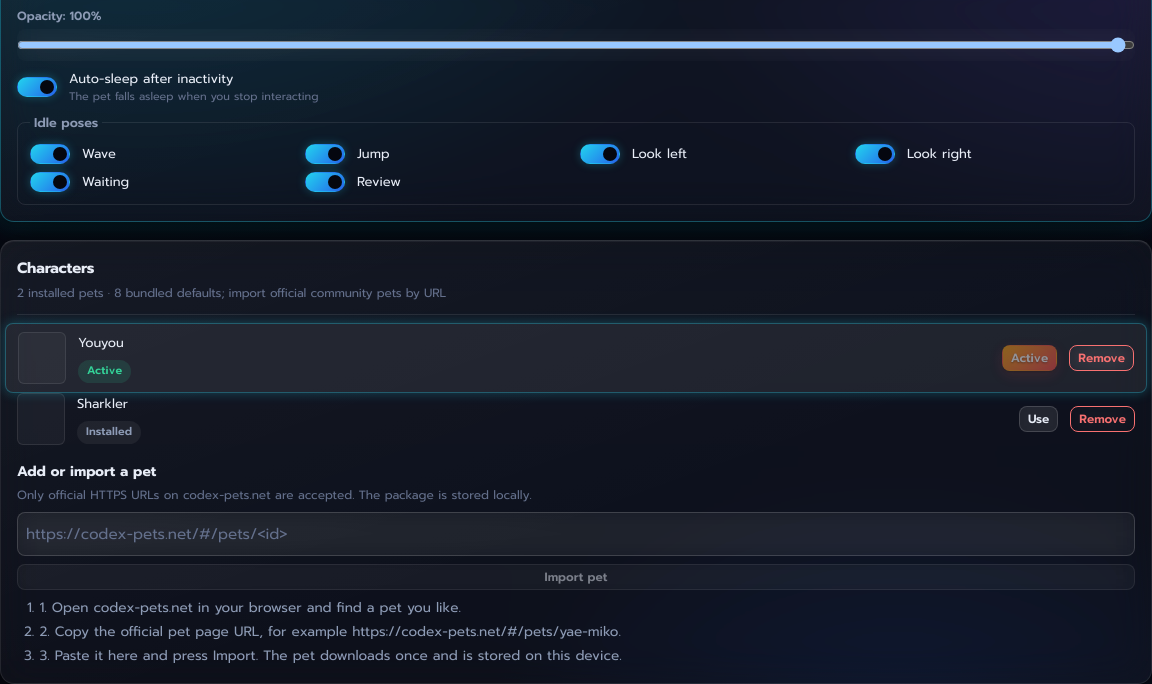
Test case: PetPage › reports a refused import instead of hiding the failure
(page scrolled)
In the field named "Official Codex Pets URL": (576, 534) [17,512,1135,556], type "https://evil.example/pets/bad-pet"
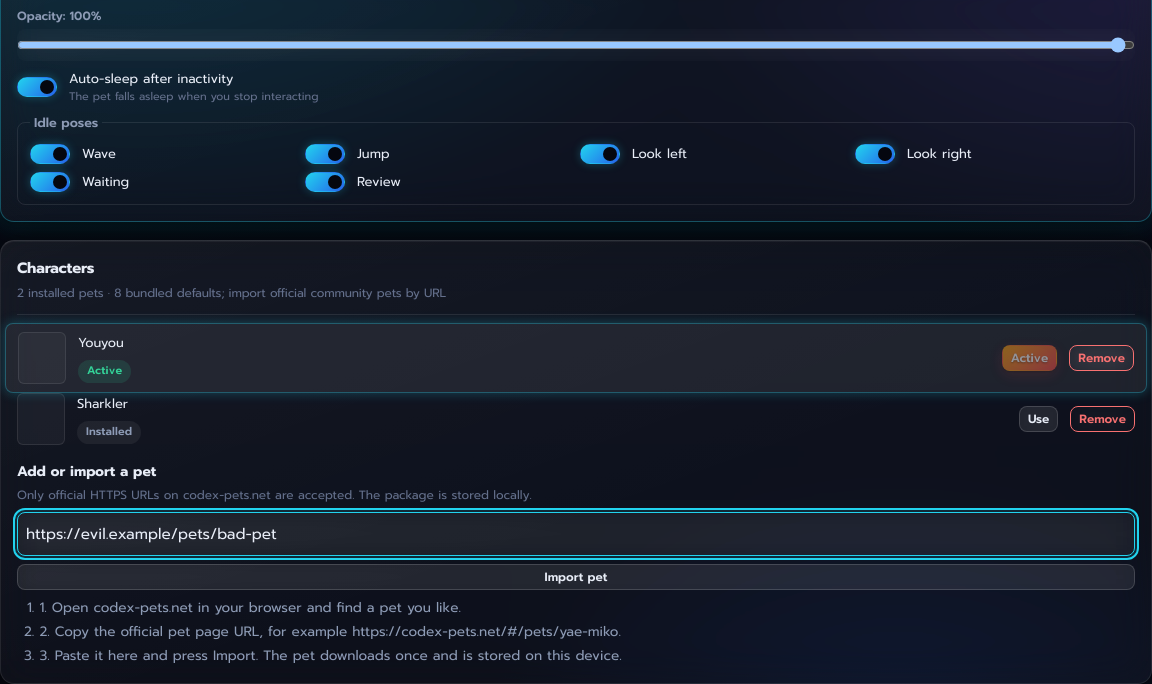
Click the button "Import pet": (576, 577) [17,564,1135,590]
(page scrolled)
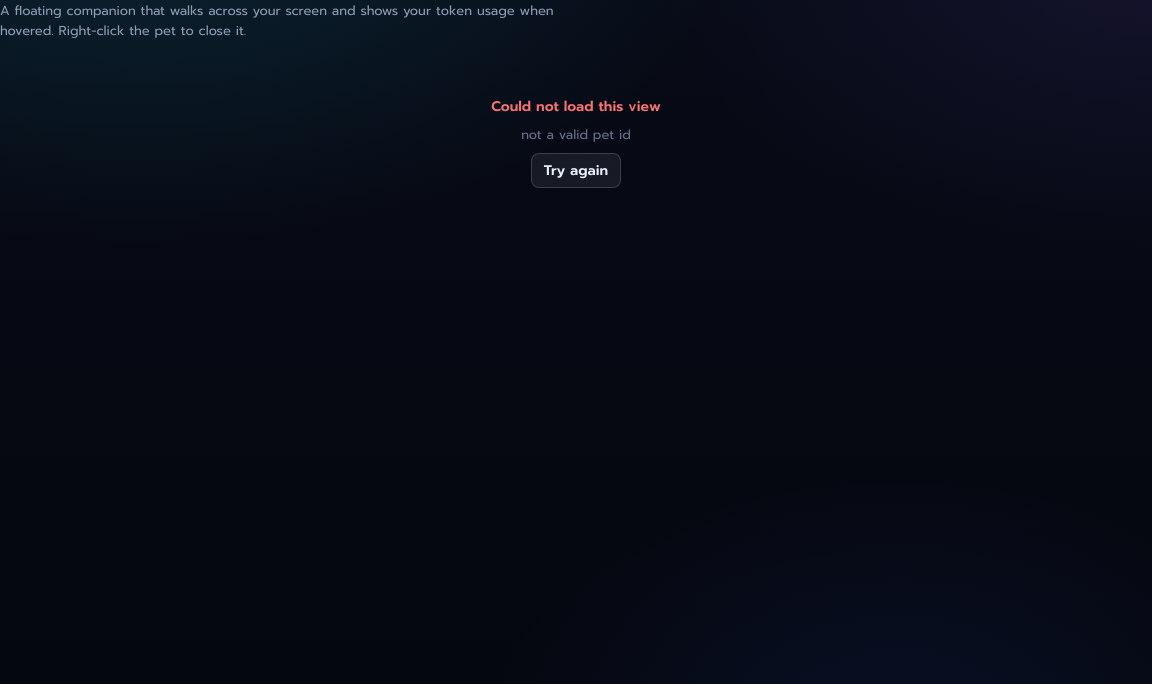
Expected: the message shows "not a valid pet id", [521,125,631,144]
